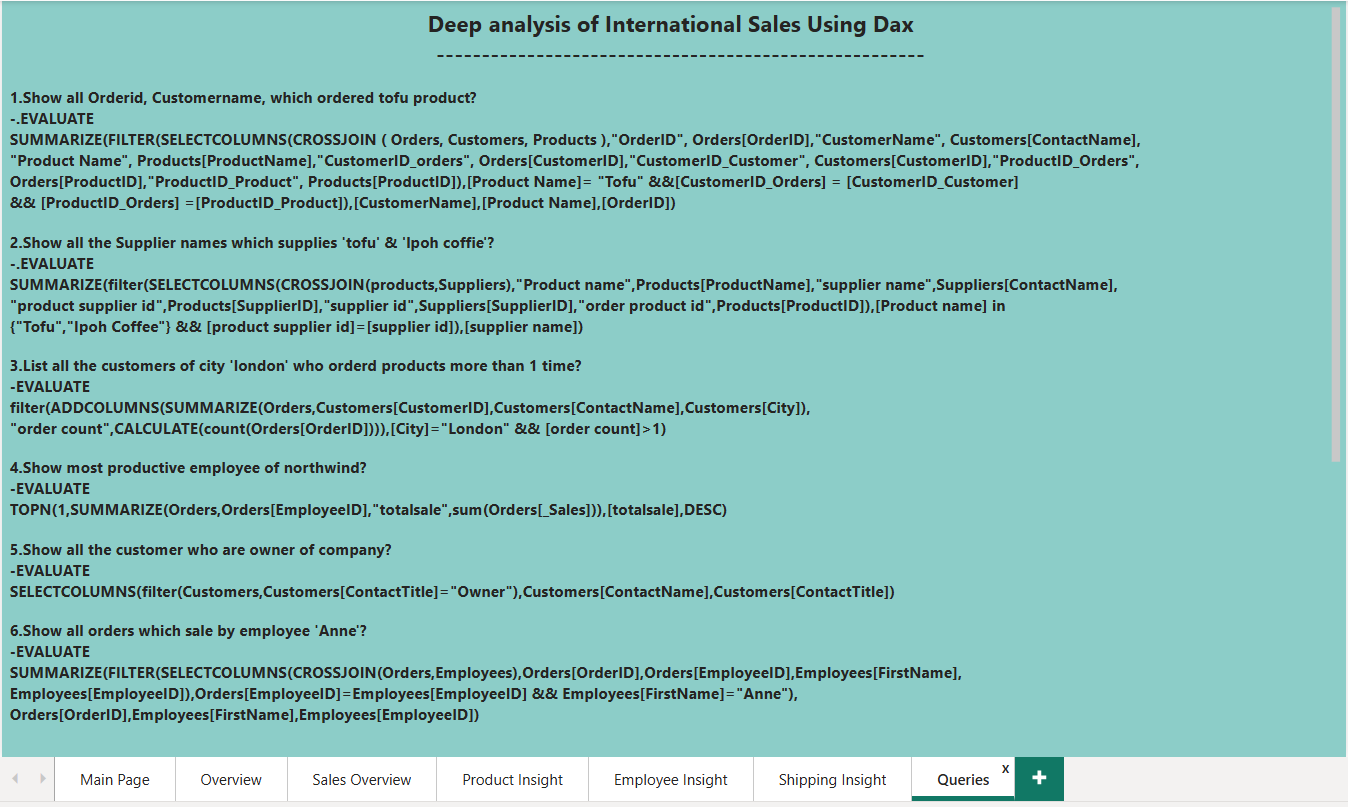

What the dashboard file says about the page in this screenshot:
{"tool":"powerbi","page":{"name":"Queries","canvas":[1280,720],"ordinal":6},"visuals":[{"type":"textbox","box":[2.6,0.9,1277.4,719.1],"z":0}]}

Visuals, with their boxes on the page's 1280x720 design canvas (x1, y1, x2, y2). These are canvas units, not pixel positions in the 1348x807 screenshot, which may show the page scaled, cropped or inside an application window:
textbox: crop(3, 1, 1280, 720)
